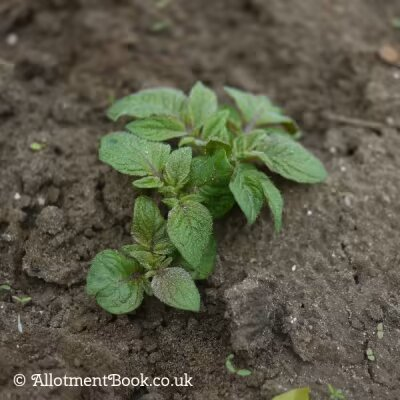potato_plant: (85, 80, 330, 316)
